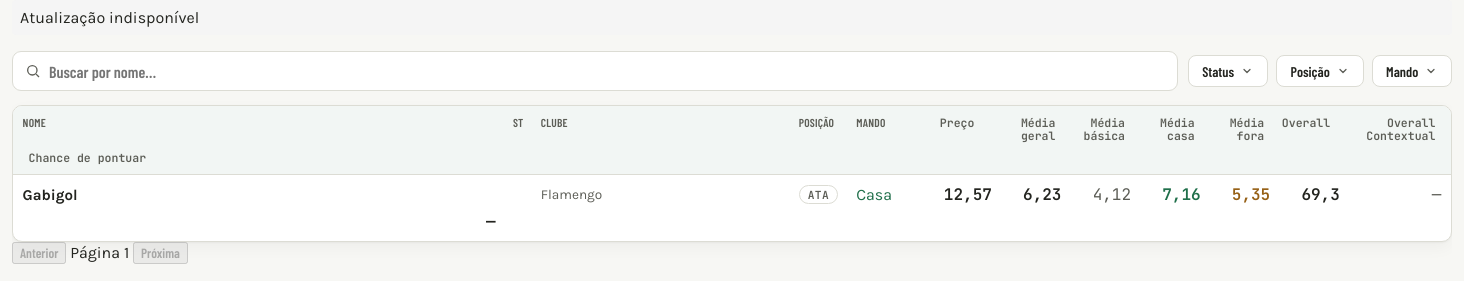
Test case: Jogadores › sanitiza HTML digitado no campo de busca antes de armazenar (issue #10)
Expected: the text "Gabigol" is shown, [23,186,78,204]
In the search field with placeholder "Buscar por nome…": (607, 71) [49,52,1165,90], type "<img src=x onerror=alert(1)>Gabi"
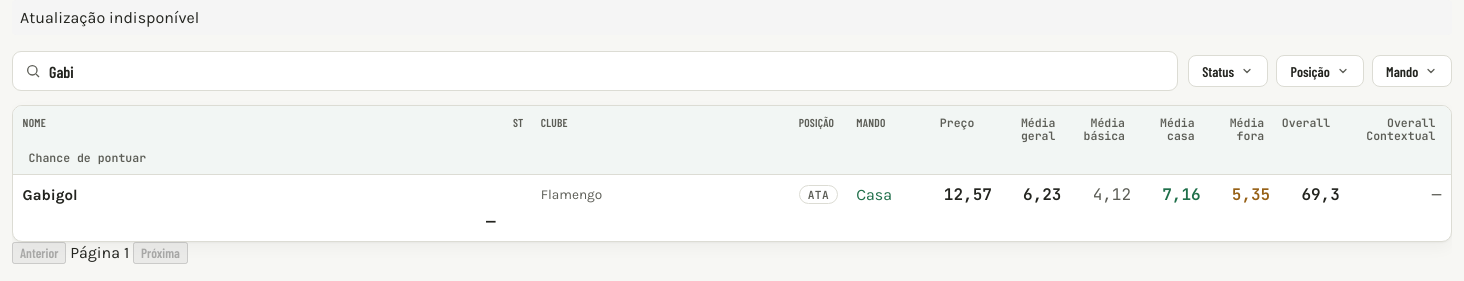
Now the search field with placeholder "Buscar por nome…" holds "Gabi", box [49,52,1165,90]
